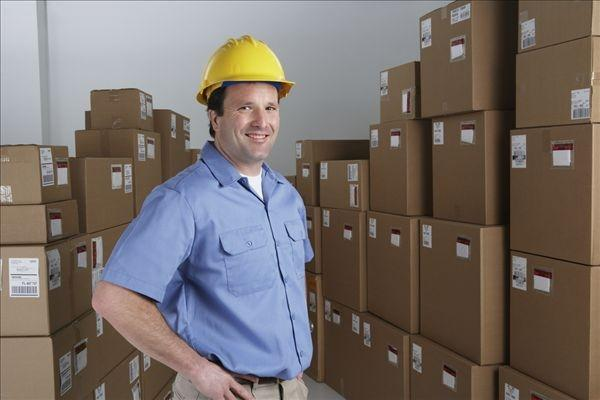helmet: (193, 35, 296, 105)
no_wear: (151, 173, 306, 362)
